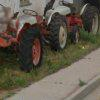Tractor: (8, 3, 100, 67)
